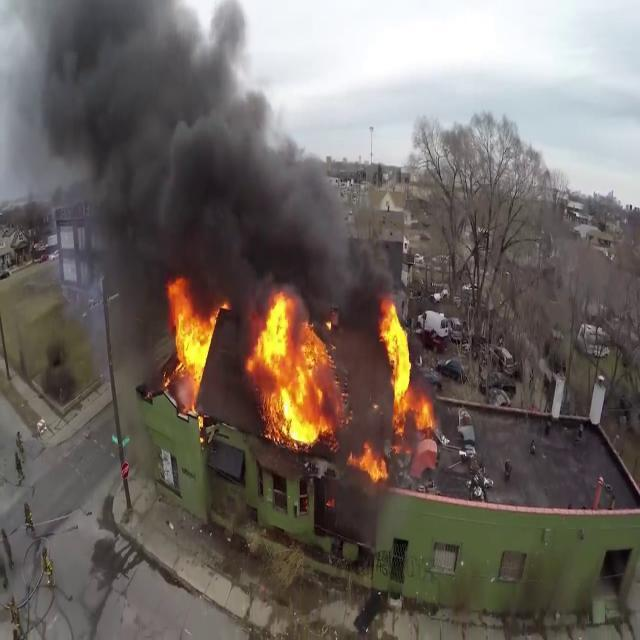Fire: (249, 289, 337, 452), (379, 292, 433, 434), (162, 278, 218, 409), (354, 437, 388, 487)
Smoke: (9, 0, 367, 320)
